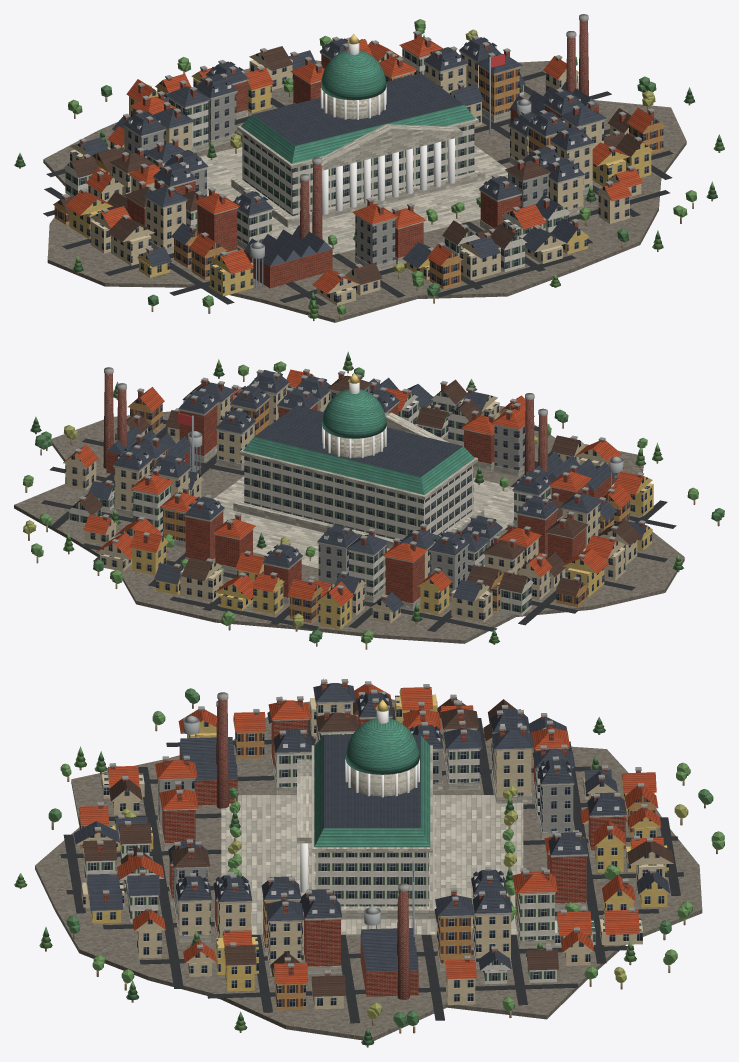
The model's file is city_west_capital.glb.
3 renders of one model, top to bottom at view 1: azimuth 30°, elevation 25°; view 2: azimuth 150°, elevation 25°; view 3: azimuth 270°, elevation 25°, orthographic. The views are drawn at different scales.
Visible parts, largest first — view 1: city_west_capital; view 2: city_west_capital; view 3: city_west_capital.
Part boxes in pixels (x1,y1,x2,y2): city_west_capital: (14,14,724,322); city_west_capital: (14,351,724,649); city_west_capital: (14,678,724,1047).
Size of the model in its own units: 6.12 by 1.37 by 5.17.
Materials: 25 (15 with a texture image).
